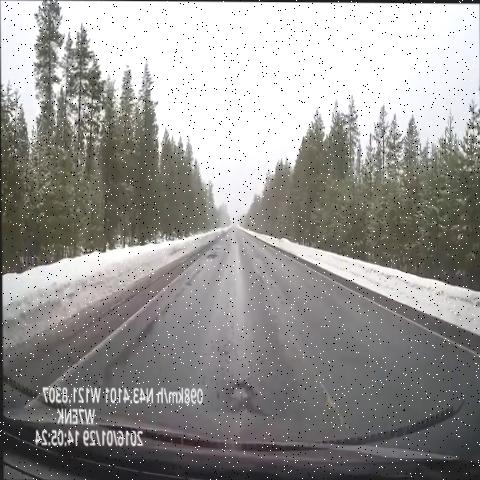pothole: (217, 369, 268, 422), (206, 237, 223, 272)
